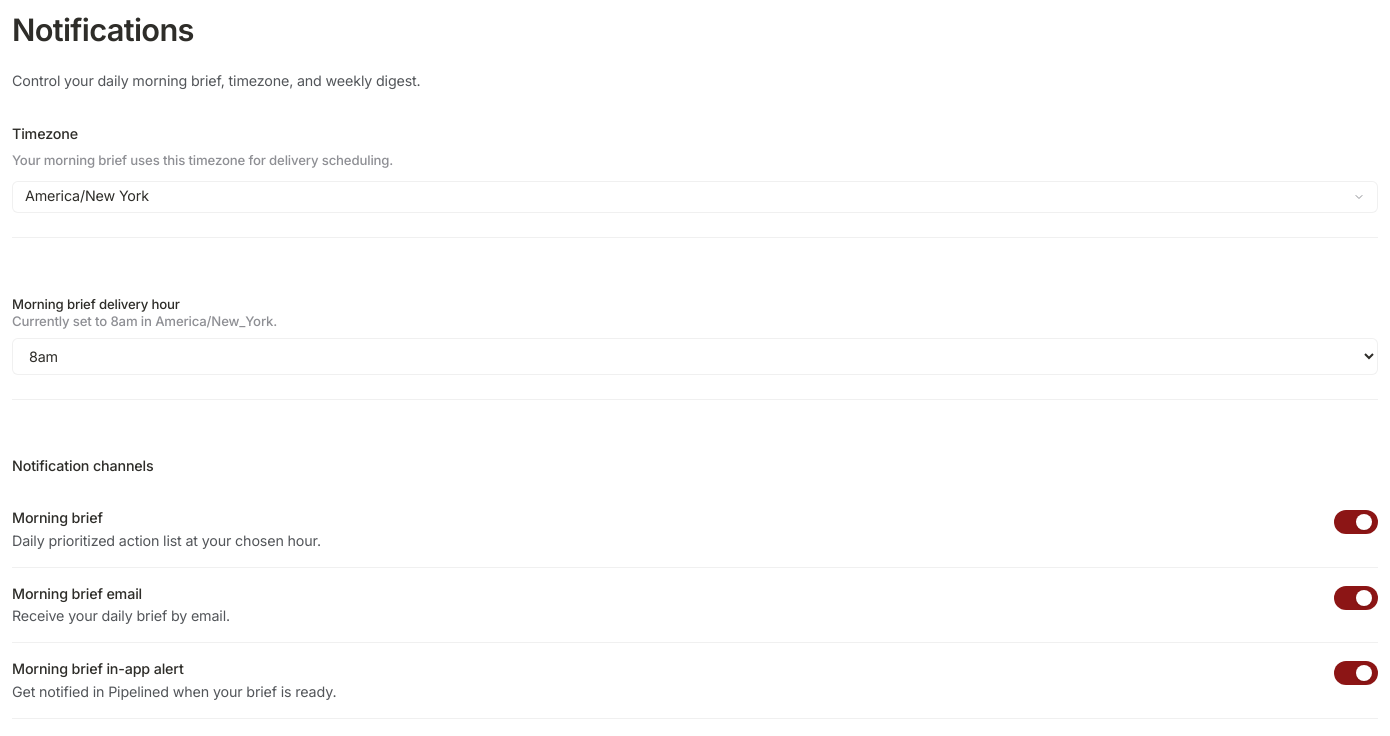
Test: SettingsNotificationsSection › should show error message when toggle save fails
The image size is (1390, 736).
Step 1. Click the switch named "morning brief email" in the row of "Receive your daily brief by email." → click(1356, 598), box [1334, 586, 1378, 610]
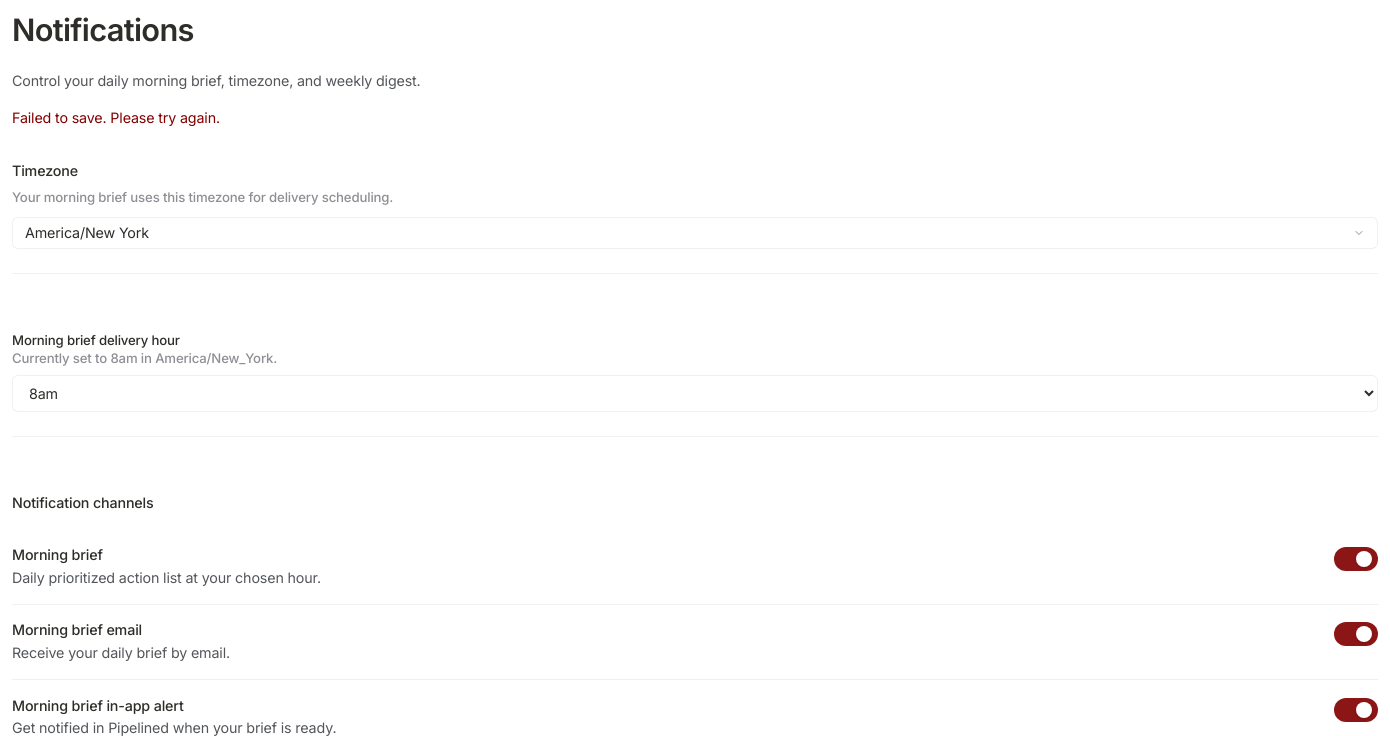
Expected: the message reads "Failed to save. Please try again.", [12, 109, 220, 126]
